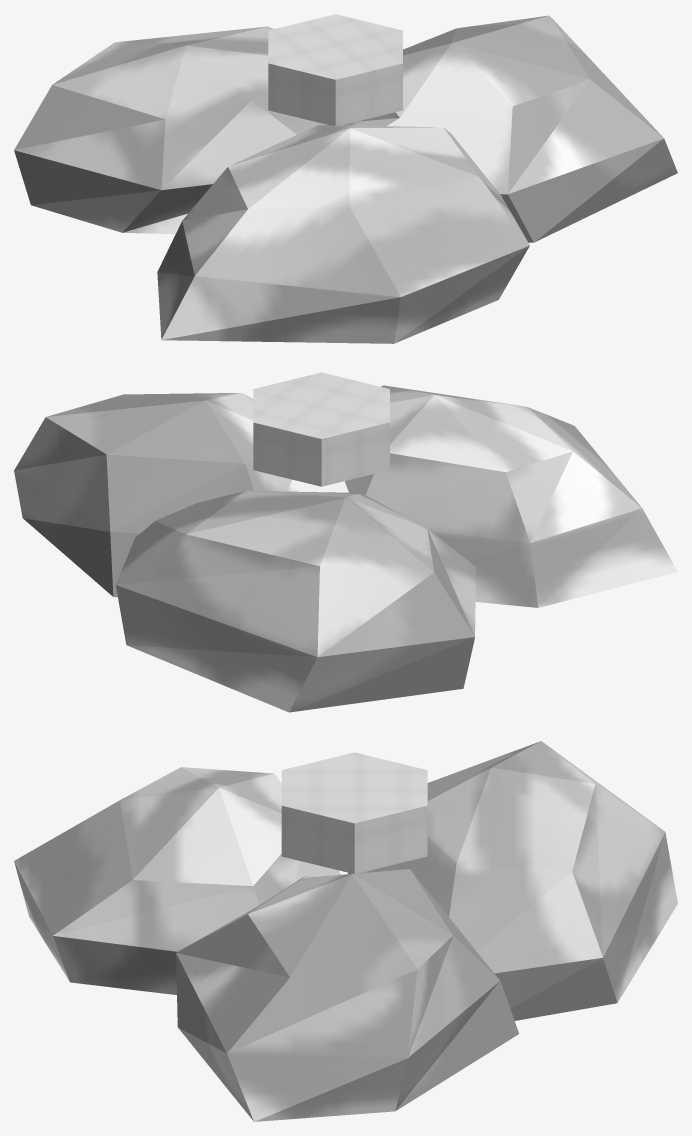
File: item_medicine_herbal.obj
The picture shows the model from 3 angles, top to bottom: view 1: azimuth 30°, elevation 25°; view 2: azimuth 150°, elevation 25°; view 3: azimuth 270°, elevation 25°; orthographic projection. The views are drawn at different scales.
Visible parts, largest first — view 1: item_medicine_herbal; view 2: item_medicine_herbal; view 3: item_medicine_herbal.
Boxes of the visible parts, <box> form: item_medicine_herbal: <box>14,14,677,343</box>; item_medicine_herbal: <box>14,372,677,712</box>; item_medicine_herbal: <box>14,741,677,1121</box>.
Size of the model in its own units: 0.498 by 0.14 by 0.4737.
